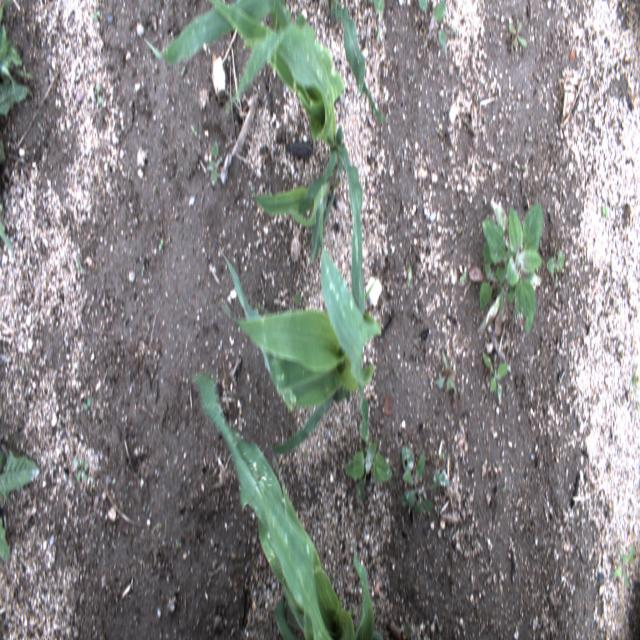crop: (143, 0, 367, 306), (190, 368, 384, 638), (215, 246, 382, 454), (328, 1, 381, 122)
weed: (477, 198, 548, 335), (0, 0, 35, 164), (0, 446, 39, 568), (398, 446, 452, 514), (342, 440, 392, 502), (414, 1, 448, 53), (479, 348, 512, 400), (436, 347, 458, 394), (613, 545, 634, 589), (0, 201, 16, 258), (507, 18, 529, 55), (545, 251, 565, 289), (371, 1, 386, 46), (208, 140, 222, 184), (71, 456, 89, 482), (628, 352, 638, 388), (102, 473, 113, 504), (402, 264, 414, 290), (295, 279, 306, 304), (16, 66, 34, 81), (96, 82, 105, 108), (600, 198, 610, 221), (346, 598, 357, 618), (82, 392, 94, 410), (90, 8, 104, 22), (460, 265, 468, 287), (156, 239, 166, 255), (188, 123, 198, 139), (180, 62, 188, 80), (403, 624, 416, 635), (436, 451, 444, 464)
